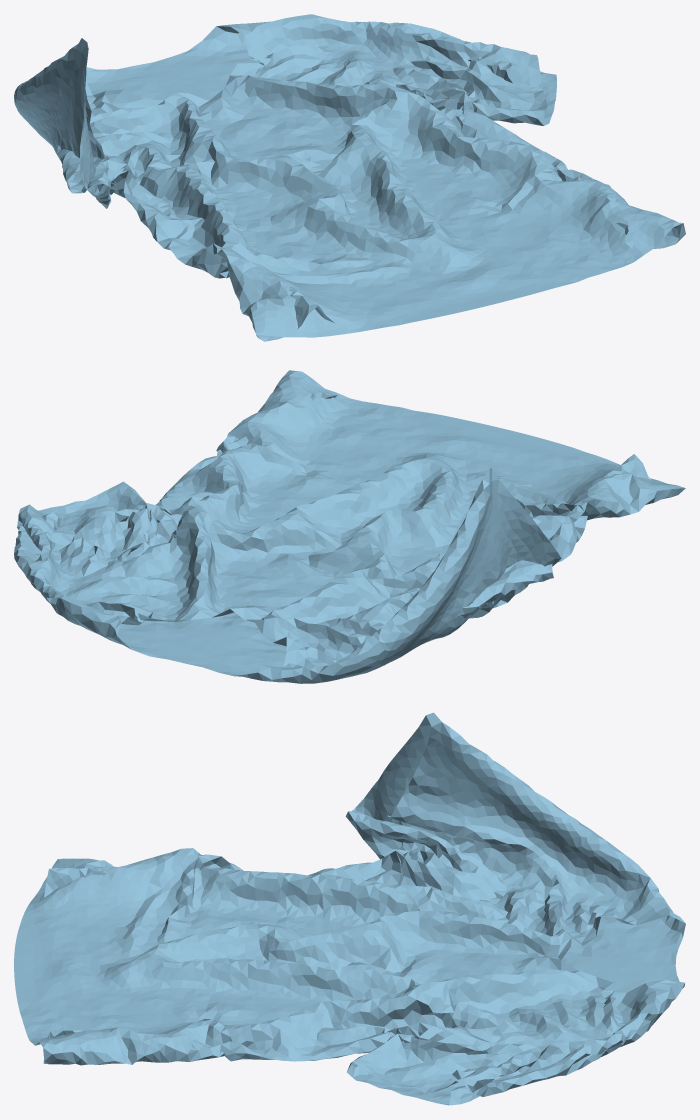
Rendered from frame_08.glb.
3 views of the same model, one above another, from view 1: azimuth 30°, elevation 25°; view 2: azimuth 150°, elevation 25°; view 3: azimuth 270°, elevation 25° (orthographic). The views are drawn at different scales.
Parts seen in each view (by area): view 1: frame_08.obj; view 2: frame_08.obj; view 3: frame_08.obj.
Boxes of the visible parts, x1,y1,x2,y2 form: frame_08.obj: [14, 14, 685, 341]; frame_08.obj: [14, 370, 685, 683]; frame_08.obj: [14, 712, 685, 1105].
Bounding box in the file's own units: 1.54 × 0.4705 × 1.73.
